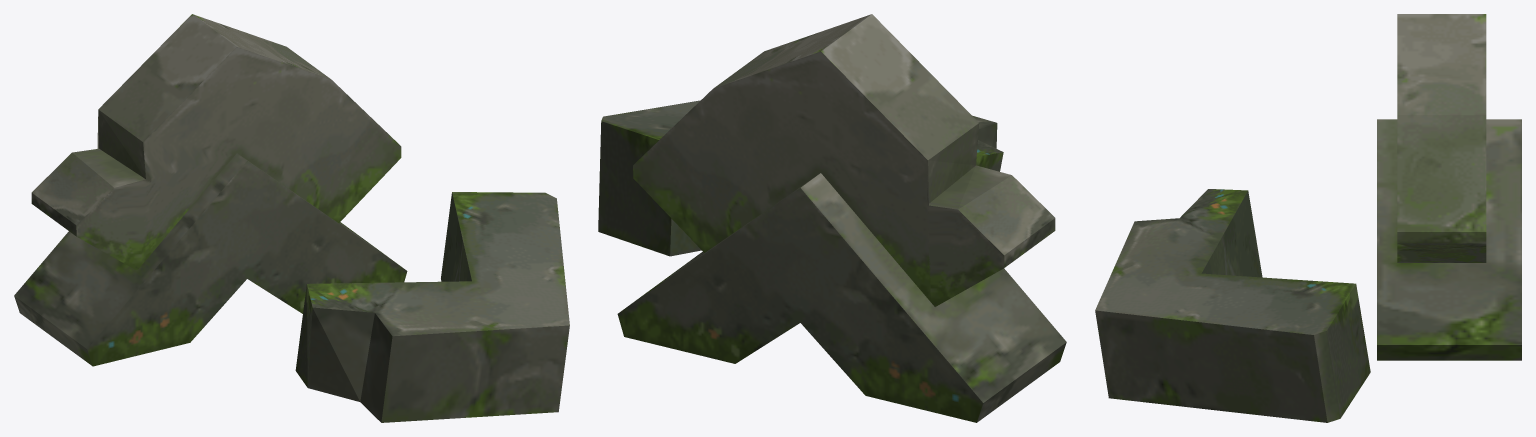
Rendered from shrine_wj002_09.FBX.
3 renders of one model, left to right at view 1: azimuth 30°, elevation 25°; view 2: azimuth 150°, elevation 25°; view 3: azimuth 270°, elevation 25°, orthographic. The views are drawn at different scales.
Visible parts, largest first — view 1: shrine_wj002_09; view 2: shrine_wj002_09; view 3: shrine_wj002_09.
Part boxes in pixels (x1,y1,x2,y2): shrine_wj002_09: (14,14,569,422); shrine_wj002_09: (598,14,1066,422); shrine_wj002_09: (1095,14,1521,422).
Size of the model in its own units: 157 by 103 by 134.
Materials: 1 (1 with a texture image).
